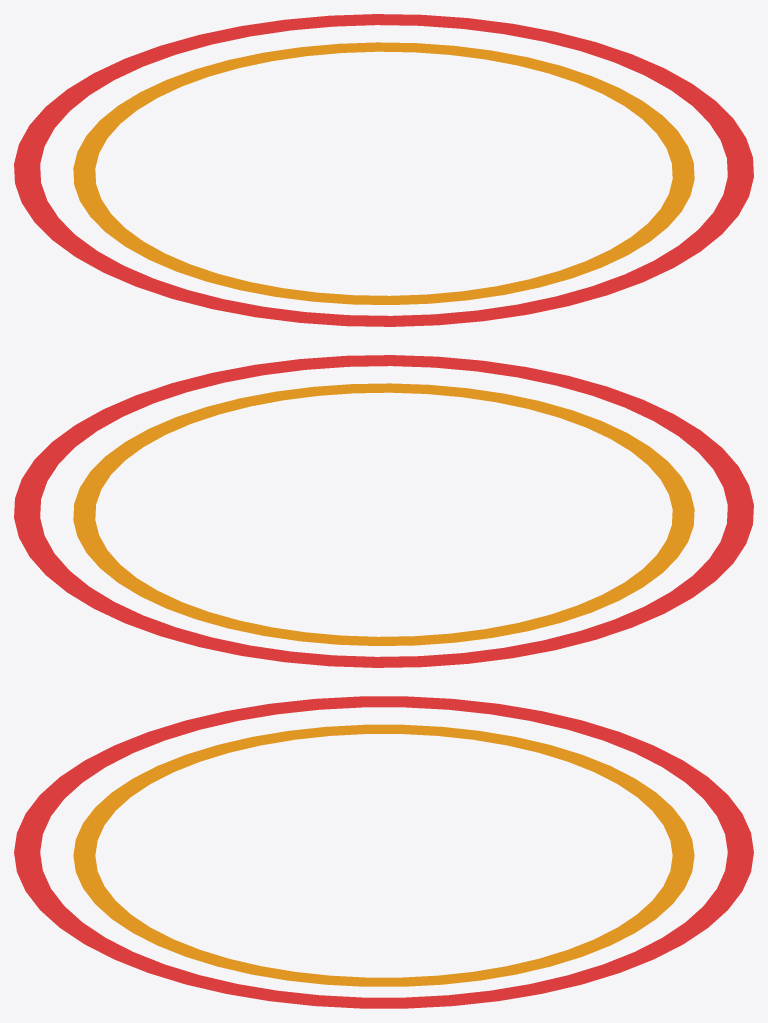
File: jjdh.FBX
The picture shows the model from 3 angles, top to bottom: view 1: azimuth 30°, elevation 25°; view 2: azimuth 150°, elevation 25°; view 3: azimuth 270°, elevation 25°; orthographic projection.
Parts seen in each view (by area): view 1: Torus003, Torus004; view 2: Torus003, Torus004; view 3: Torus003, Torus004.
Boxes of the visible parts, x1,y1,x2,y2 form: Torus003: (14,14,753,326); Torus004: (73,42,694,304); Torus003: (14,355,753,667); Torus004: (73,383,694,645); Torus003: (14,696,753,1008); Torus004: (73,724,694,986).
Size of the model in its own units: 243 by 1.2 by 244.
